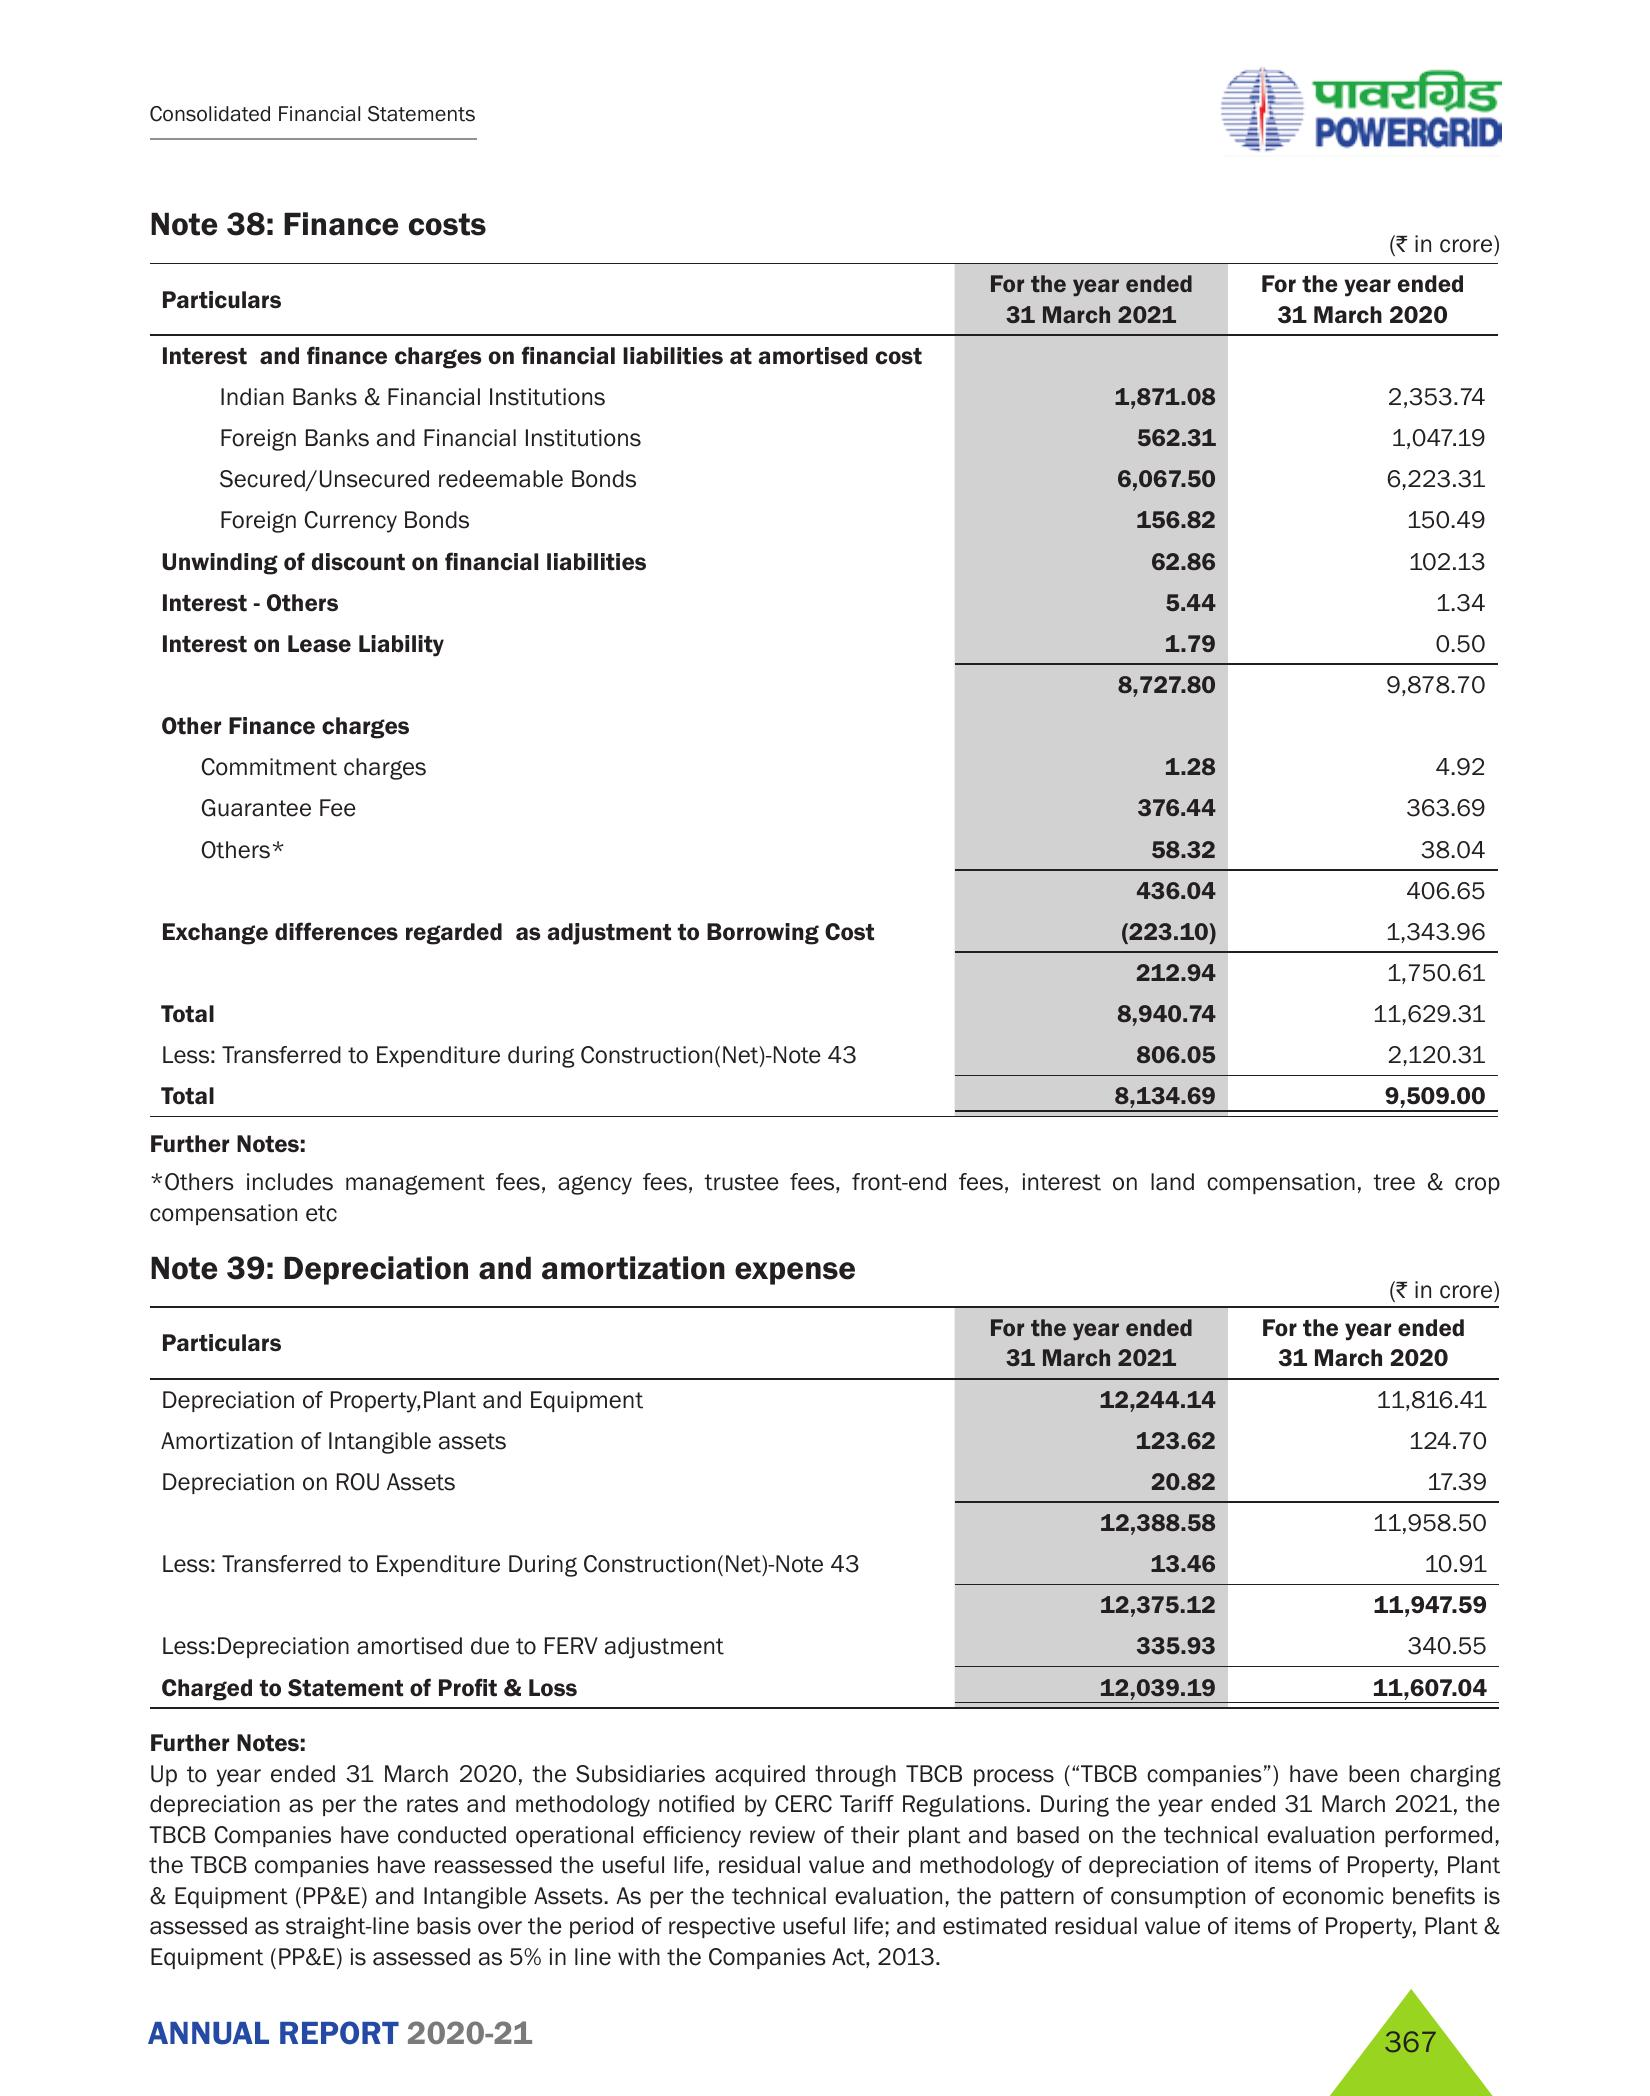Footer: (3, 1974, 1650, 2096)
Header: (0, 0, 1650, 163)
Table: (126, 260, 1539, 1111), (129, 1303, 1504, 1705)
